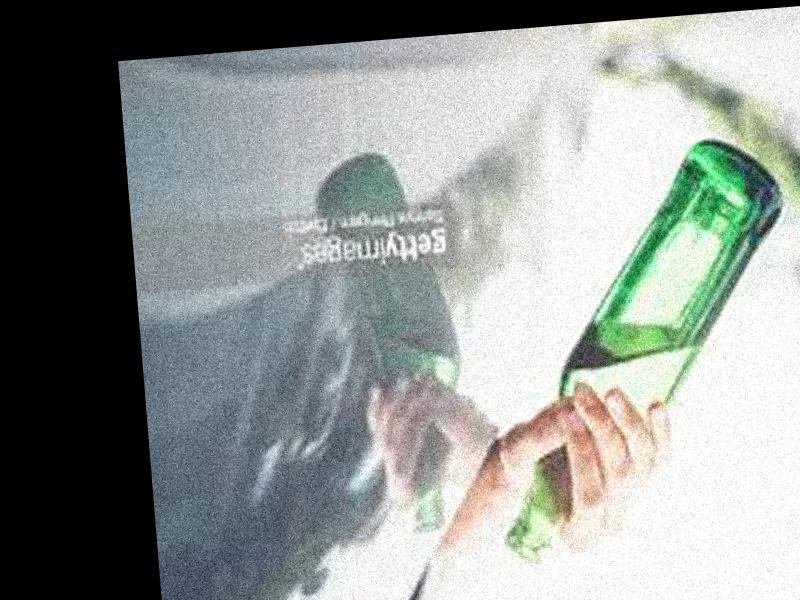Beer: (470, 135, 800, 559)
